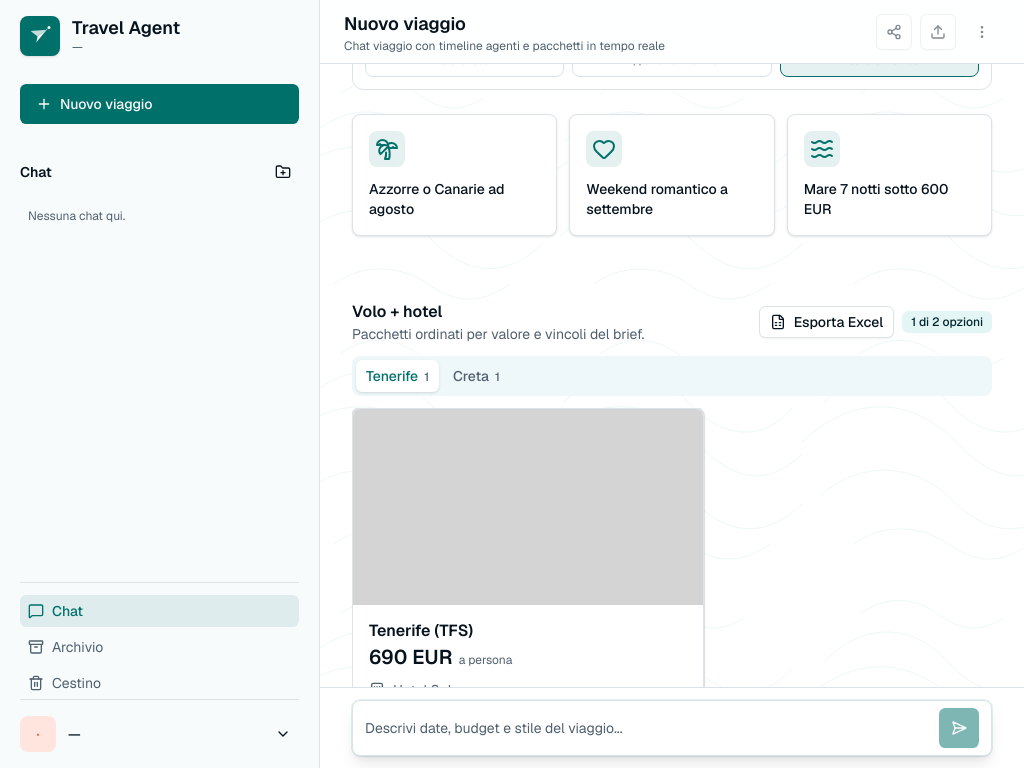
Test: multiple locations render a shared selector; clicking the second shows its cards
(page scrolled)
Expected: the text "Tenerife (TFS)" is shown, x1=369 y1=620 x2=473 y2=641
Expected: the text "Creta (HER)" is not shown
Click the "Creta" tab (use the first selector's tab).
Click the tab "Creta1". click: x=476, y=376
box: x1=443 y1=360 x2=510 y2=392
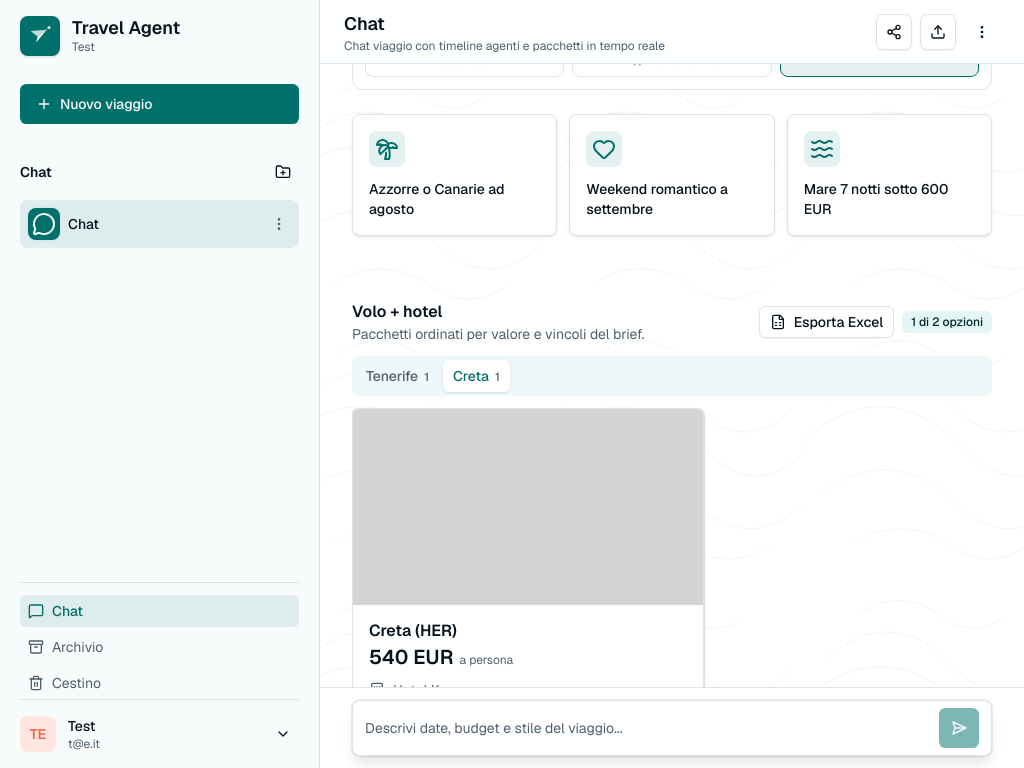
Now the text "Creta (HER)" is shown, box x1=369 y1=620 x2=457 y2=641
Now the text "Tenerife (TFS)" is gone
